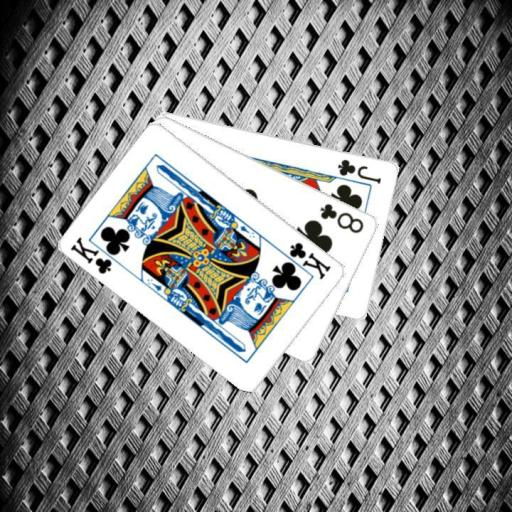8C: (317, 200, 366, 235)
JC: (335, 156, 383, 185)
KC: (277, 239, 333, 282), (68, 234, 125, 276)
